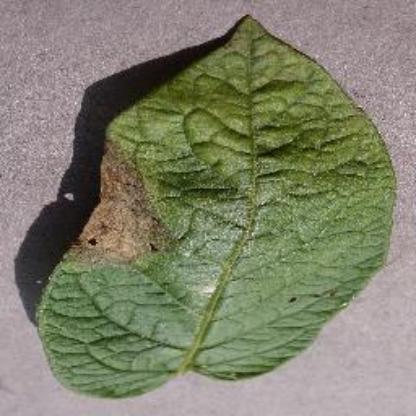Late-Blight: (25, 9, 396, 405)
